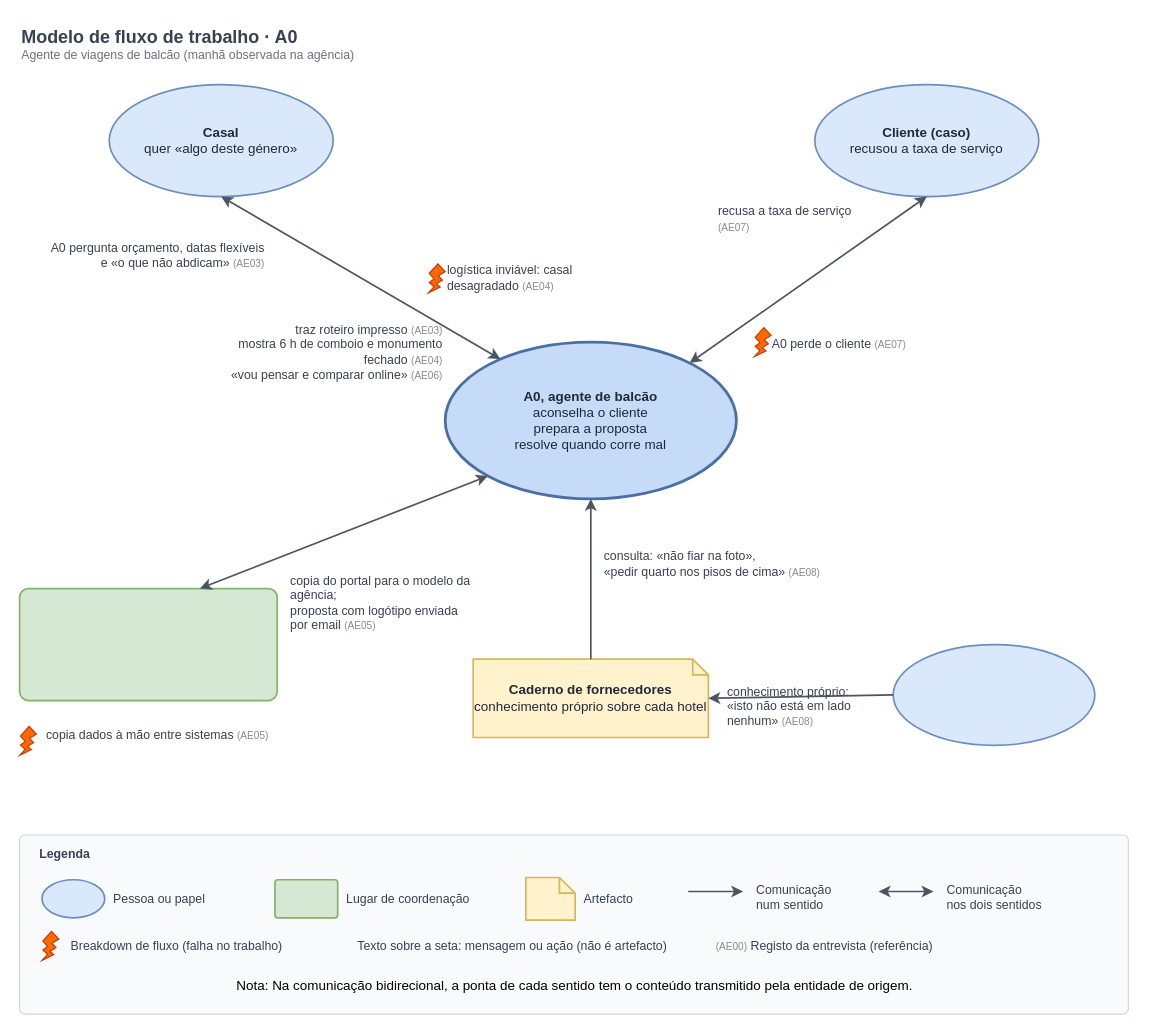
This 1149x1034 diagram has some shape labels left out. The shapes that lost their labels are listed below. From the top down, each one's centre as x and y in pixels, then its label:
At pixel 148 644: "Sistema, correio e autocolante conversas pendentes e pedidos online".
At pixel 993 694: "Fornecedores hotéis e afins".
